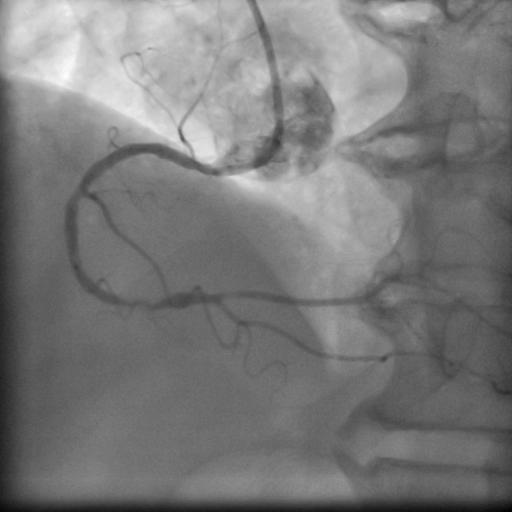Stenosis: (120, 293, 169, 314)
